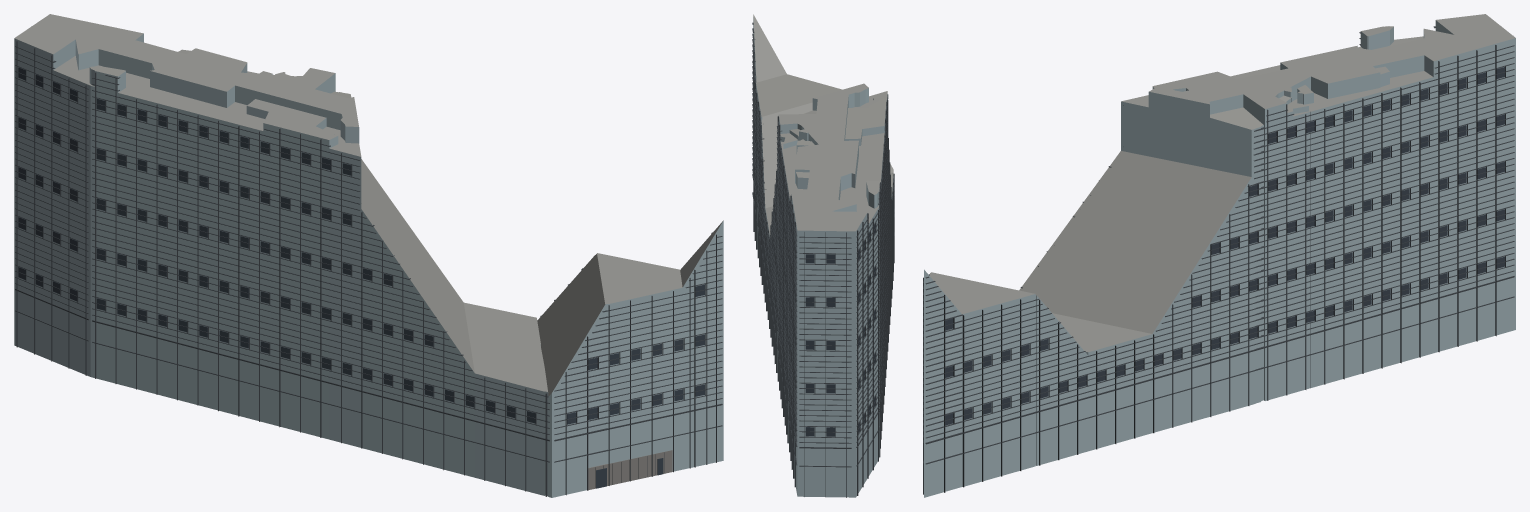
File: room-mate-aitana.glb
3 renders of one model, left to right at view 1: azimuth 30°, elevation 25°; view 2: azimuth 150°, elevation 25°; view 3: azimuth 270°, elevation 25°, orthographic. The views are drawn at different scales.
Visible parts, largest first — view 1: room-mate-aitana; view 2: room-mate-aitana; view 3: room-mate-aitana.
Part boxes in pixels (x1=…): room-mate-aitana: x1=14, y1=14, x2=723, y2=497; room-mate-aitana: x1=752, y1=14, x2=894, y2=497; room-mate-aitana: x1=923, y1=14, x2=1515, y2=497.
Size of the model in its own units: 61.53 by 43.7 by 80.23.
